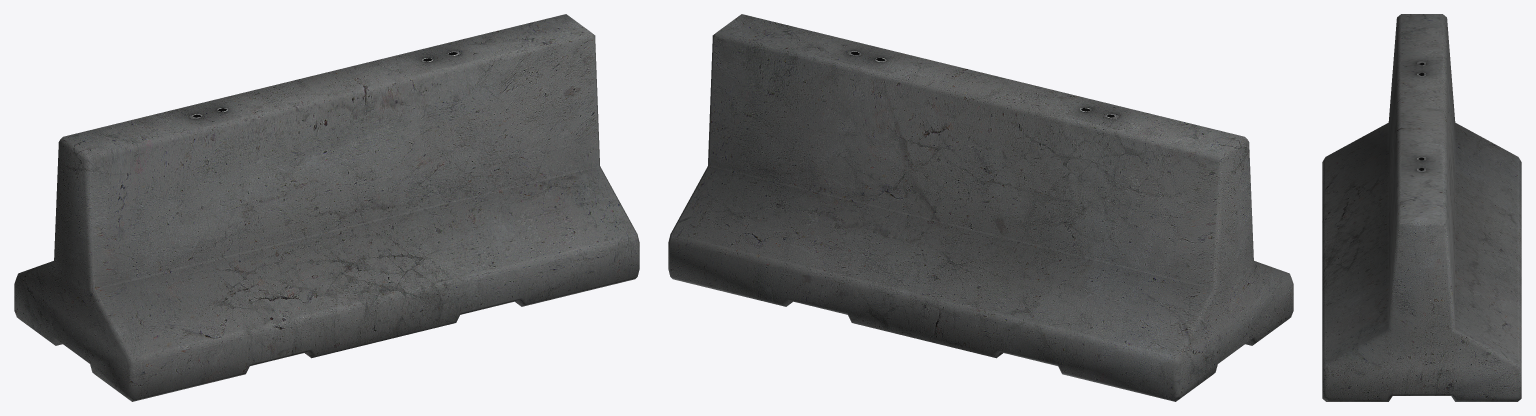
The model's file is Barrier.FBX.
The picture shows the model from 3 angles, left to right: view 1: azimuth 30°, elevation 25°; view 2: azimuth 150°, elevation 25°; view 3: azimuth 270°, elevation 25°; orthographic projection. The views are drawn at different scales.
Parts seen in each view (by area): view 1: Barrier_tetra; view 2: Barrier_tetra; view 3: Barrier_tetra.
Part boxes in pixels (bbox=[...]): Barrier_tetra: bbox=[14, 14, 639, 401]; Barrier_tetra: bbox=[668, 14, 1293, 401]; Barrier_tetra: bbox=[1322, 14, 1521, 401].
Bounding box in the file's own units: 125 × 50 × 50.
1 material, 1 textured.
